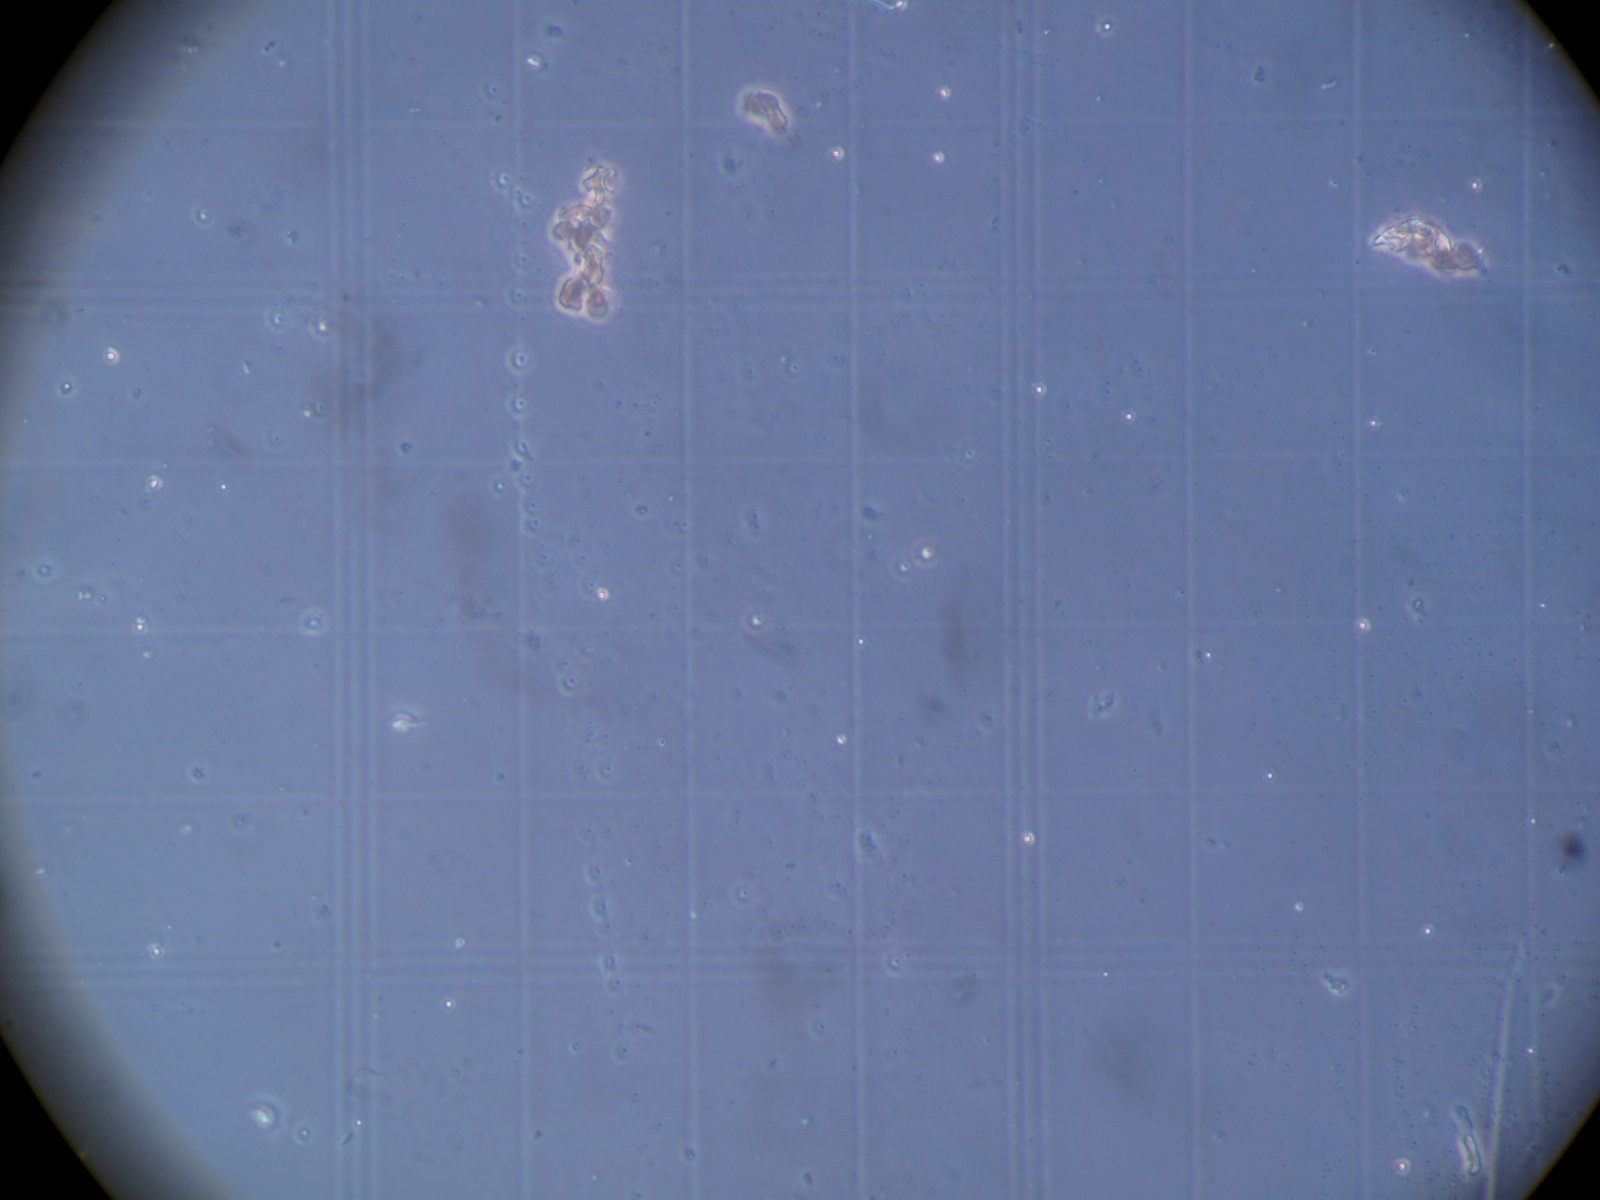virusw: (1391, 1156, 1414, 1179), (1096, 16, 1117, 37), (746, 611, 766, 630), (1119, 408, 1139, 427), (195, 205, 213, 227), (1363, 413, 1382, 432), (1419, 921, 1436, 942), (34, 562, 55, 579), (1465, 176, 1483, 195), (1354, 616, 1372, 635), (145, 474, 163, 492), (826, 146, 845, 163), (934, 84, 952, 101), (1018, 831, 1036, 847), (314, 319, 333, 334), (1261, 766, 1277, 783), (488, 79, 500, 100), (215, 478, 231, 494), (103, 347, 118, 363), (1031, 383, 1047, 398), (151, 943, 165, 961), (929, 150, 946, 164), (896, 560, 911, 575), (918, 545, 934, 560), (297, 1126, 312, 1139), (595, 587, 609, 603), (272, 313, 285, 329), (1527, 813, 1540, 829), (454, 937, 467, 950), (1099, 968, 1112, 982), (835, 734, 849, 746), (315, 403, 328, 416), (353, 1116, 364, 1129), (132, 621, 146, 633), (441, 998, 454, 1010), (1295, 900, 1306, 911), (1526, 1047, 1537, 1058)
